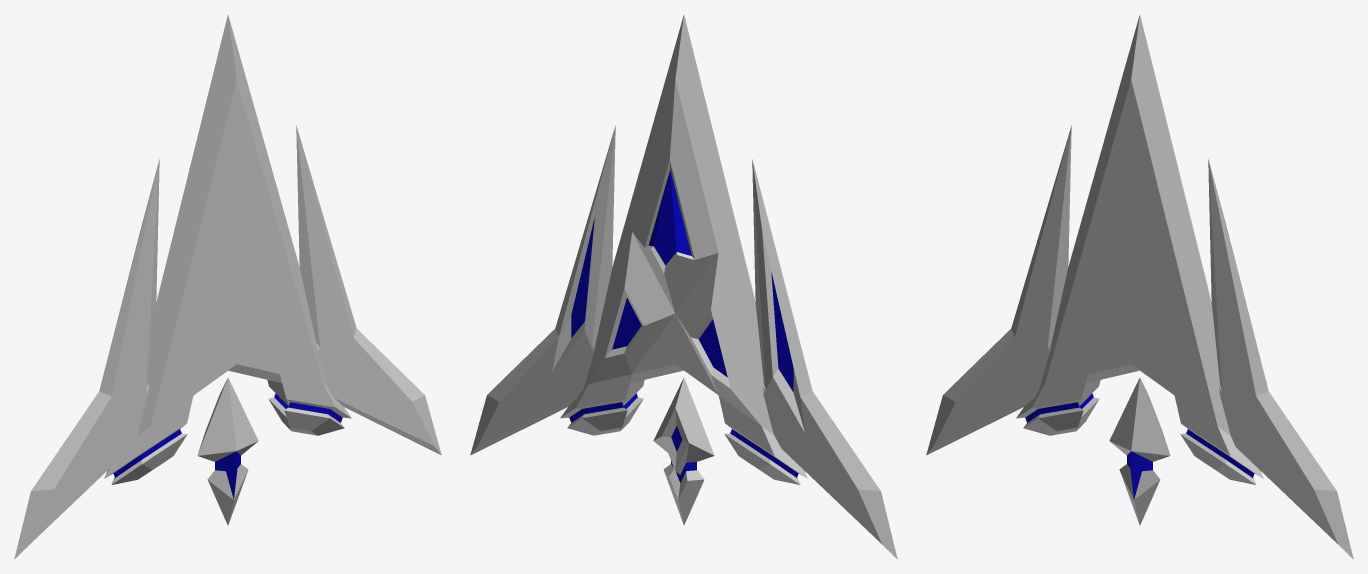
Rendered from Model_Ship_Alpha.fbx.
The picture shows the model from 3 angles, left to right: view 1: azimuth 30°, elevation 25°; view 2: azimuth 150°, elevation 25°; view 3: azimuth 330°, elevation 25°; orthographic projection.
Visible parts, largest first — view 1: Ship_Pointer_Alpha, Ship_Wing_Alpha_1, Ship_Wing_Alpha_0, Ship_Core_Alpha; view 2: Ship_Pointer_Alpha, Ship_Wing_Alpha_1, Ship_Wing_Alpha_0, Ship_Core_Alpha; view 3: Ship_Pointer_Alpha, Ship_Wing_Alpha_0, Ship_Wing_Alpha_1, Ship_Core_Alpha.
Boxes of the visible parts, box(x1,y1,x2,y2) form: Ship_Pointer_Alpha: box(104, 14, 351, 484); Ship_Wing_Alpha_1: box(14, 159, 159, 559); Ship_Wing_Alpha_0: box(296, 125, 441, 455); Ship_Core_Alpha: box(197, 377, 258, 525); Ship_Pointer_Alpha: box(560, 14, 807, 484); Ship_Wing_Alpha_1: box(752, 159, 897, 559); Ship_Wing_Alpha_0: box(470, 125, 615, 455); Ship_Core_Alpha: box(653, 377, 714, 525); Ship_Pointer_Alpha: box(1016, 14, 1263, 484); Ship_Wing_Alpha_0: box(1208, 159, 1353, 559); Ship_Wing_Alpha_1: box(926, 125, 1071, 455); Ship_Core_Alpha: box(1109, 377, 1170, 525).
Size of the model in its own units: 4378 by 5009 by 508.
